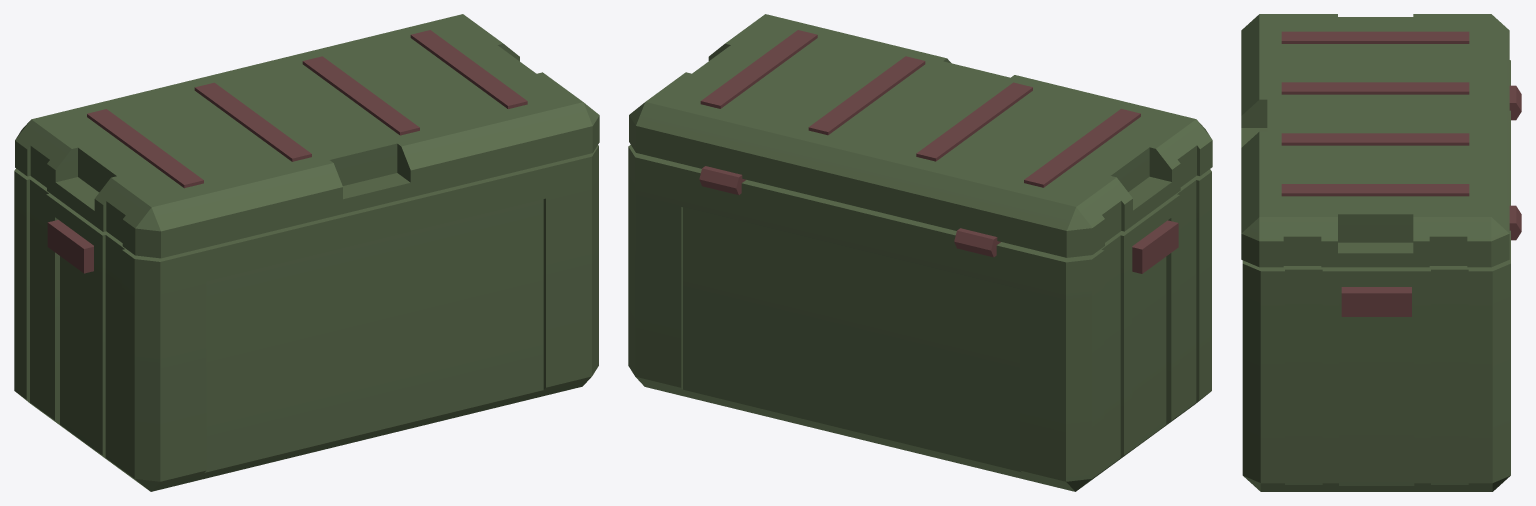
File: AmoBox_01.glb
The picture shows the model from 3 angles, left to right: view 1: azimuth 30°, elevation 25°; view 2: azimuth 150°, elevation 25°; view 3: azimuth 270°, elevation 25°; orthographic projection. The views are drawn at different scales.
Visible parts, largest first — view 1: AmoBox_01; view 2: AmoBox_01; view 3: AmoBox_01.
Boxes of the visible parts, x1=… form: AmoBox_01: x1=14, y1=14, x2=599, y2=491; AmoBox_01: x1=628, y1=14, x2=1212, y2=491; AmoBox_01: x1=1241, y1=14, x2=1521, y2=491.
Bounding box in the file's own units: 0.978 × 0.5595 × 0.5116.
Materials: 1 (1 with a texture image).
